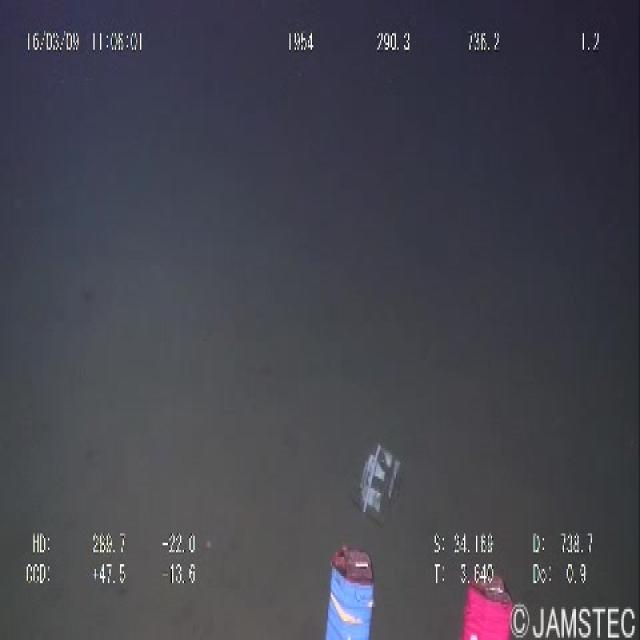plastic: (353, 434, 403, 519)
